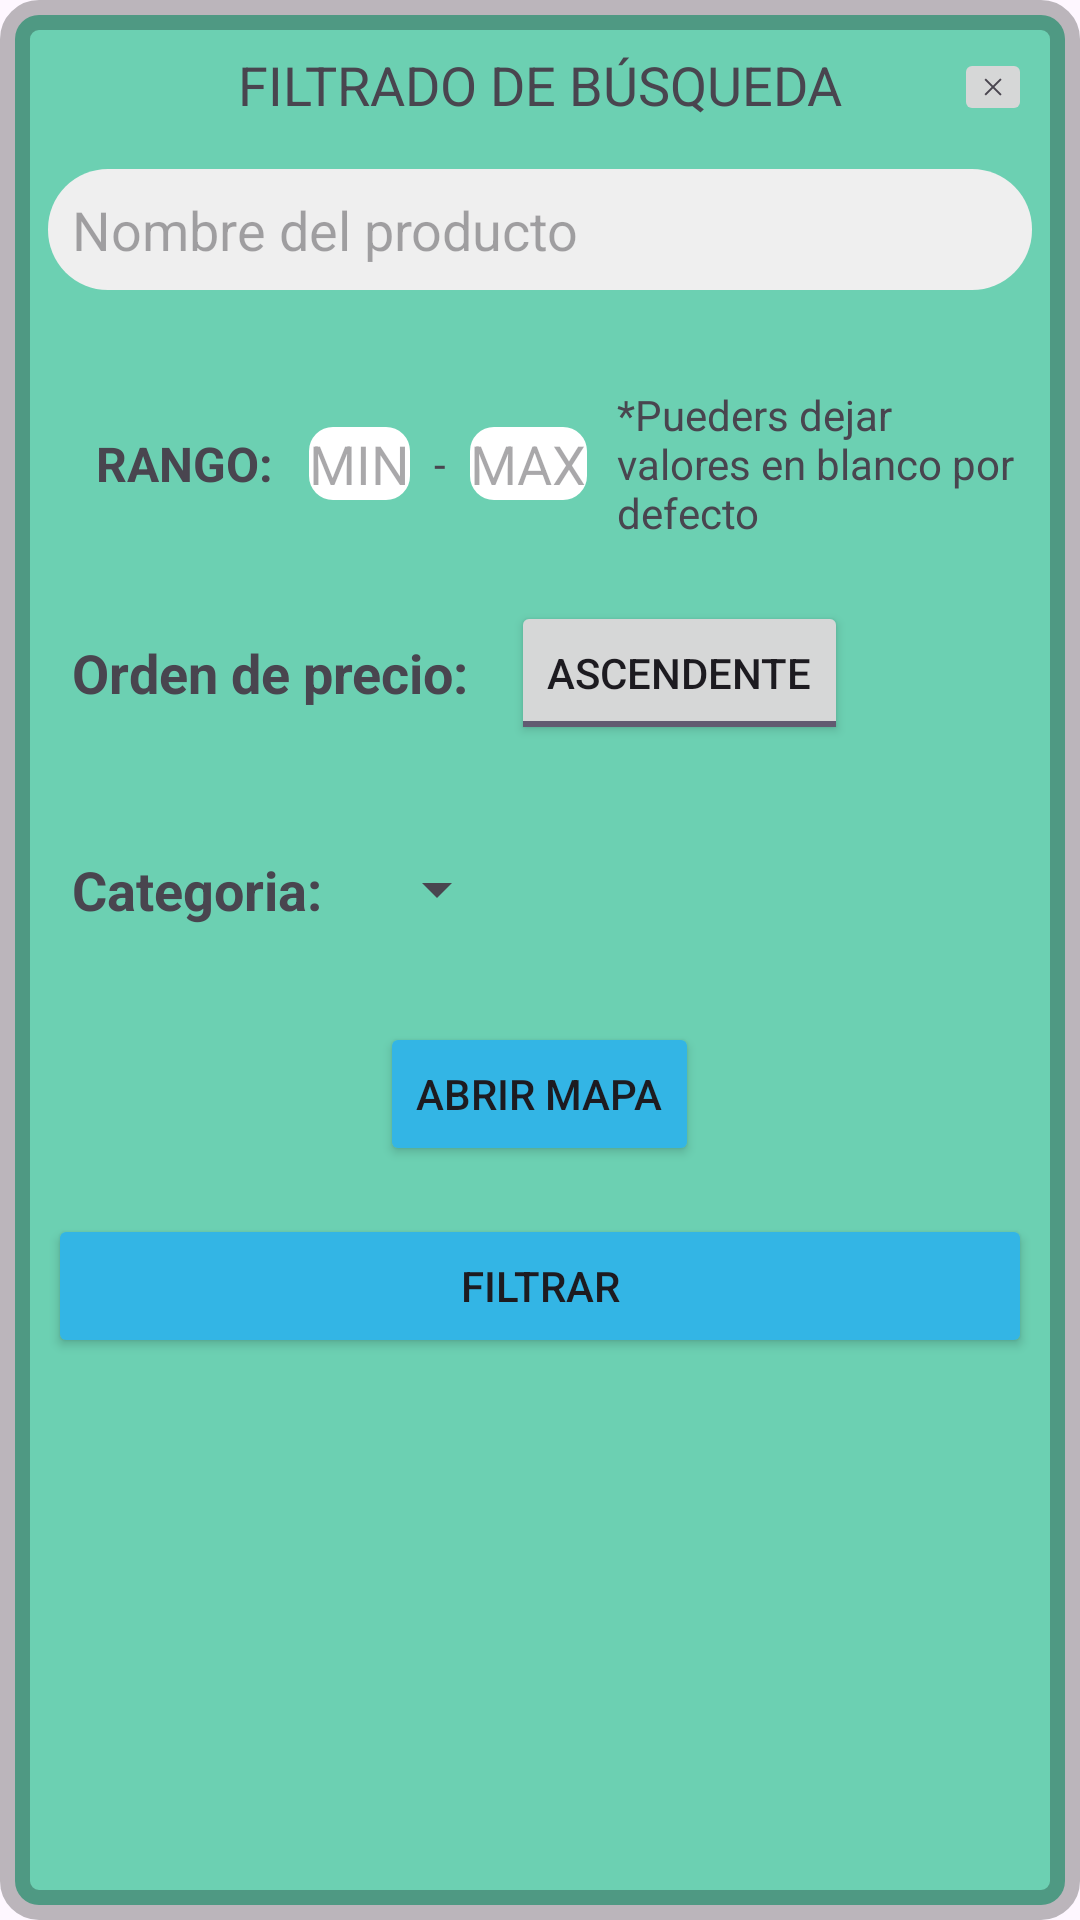

Icons on this 1080*1920 Android screen, each with the point to tap as point (x, y):
close: point (993, 87)
